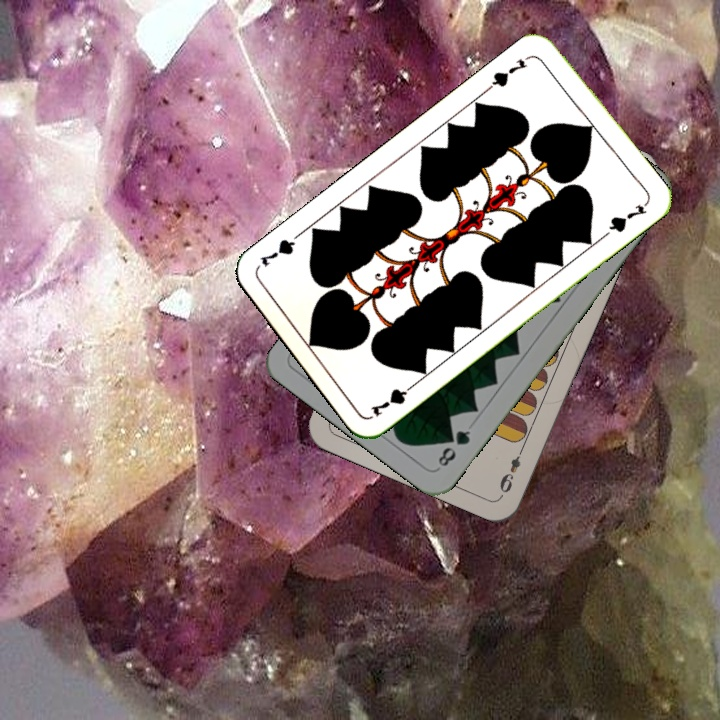E9: (495, 442, 527, 496)
G7: (366, 377, 420, 420), (484, 51, 534, 93)
G8: (433, 426, 473, 470)
